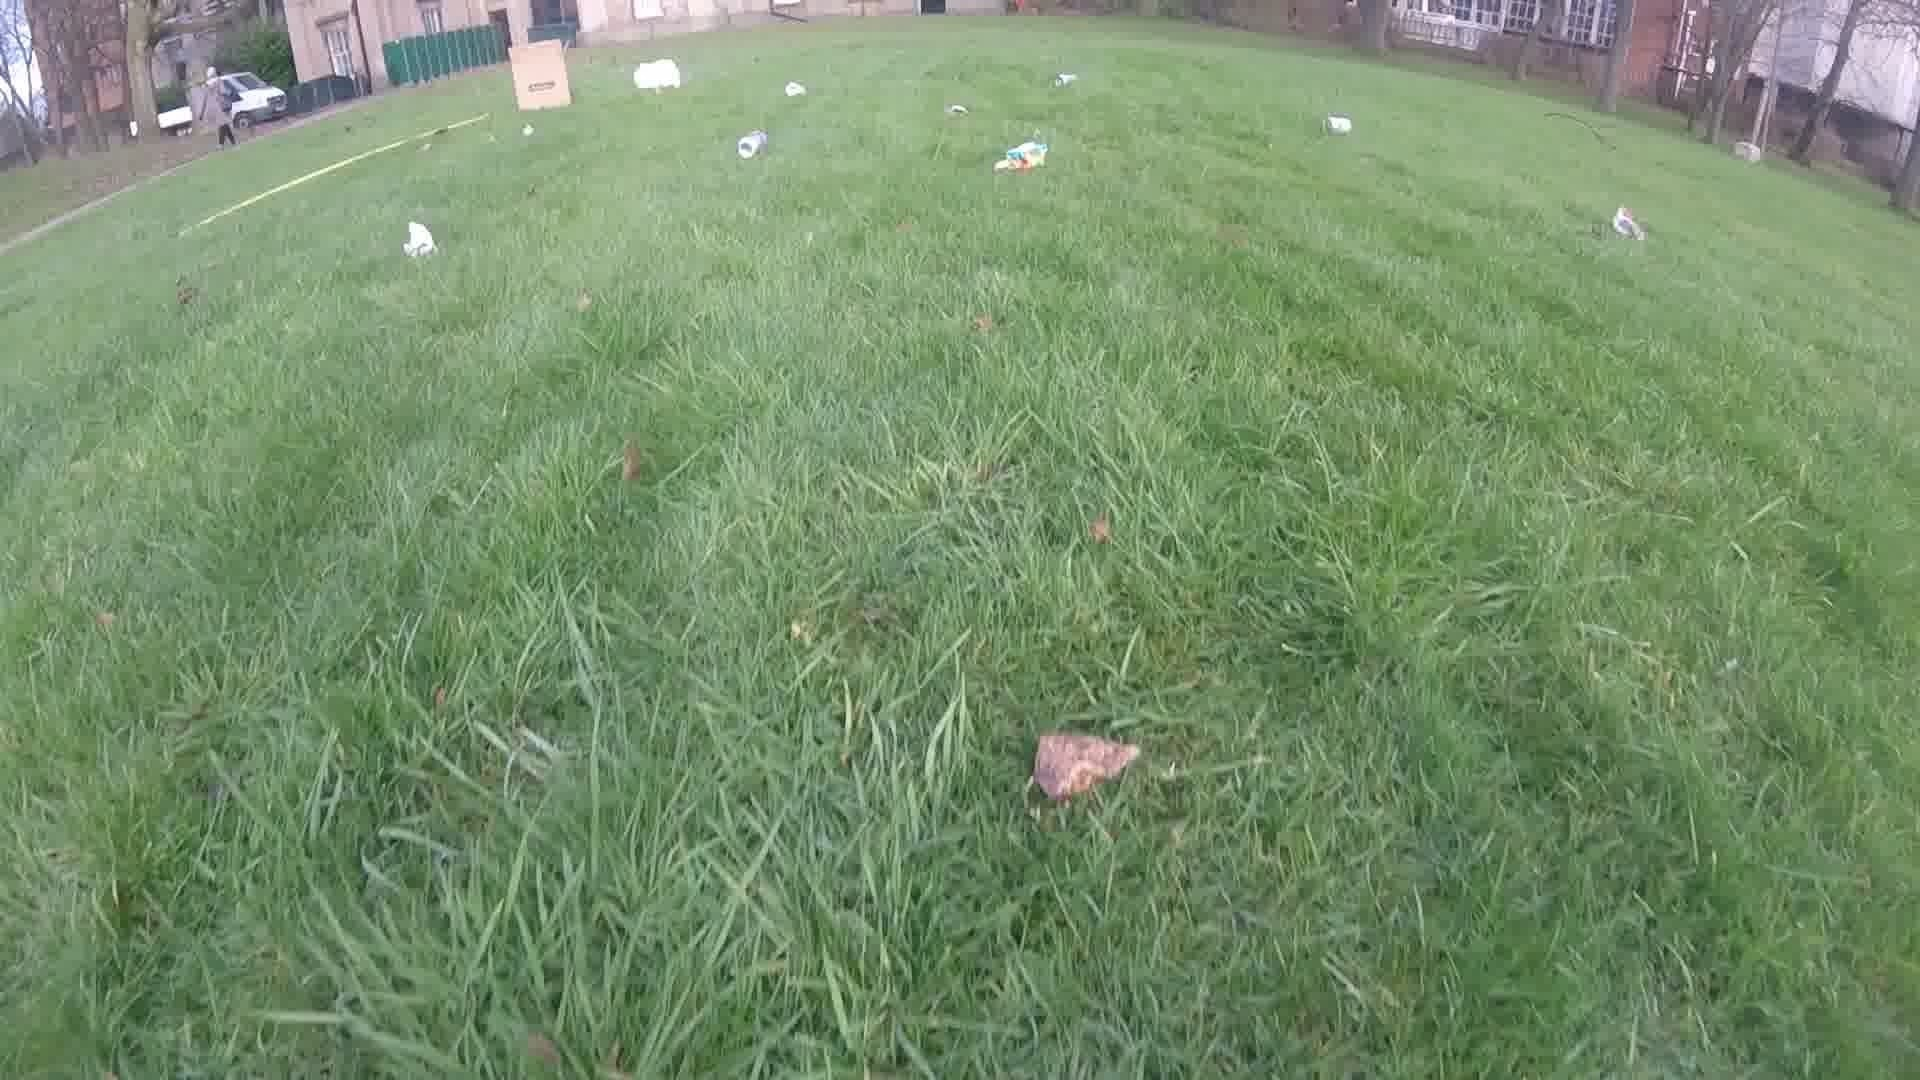litter: (506, 40, 574, 109), (992, 138, 1047, 167), (636, 59, 679, 88), (402, 222, 433, 255), (736, 131, 770, 157), (1610, 206, 1639, 236), (1323, 115, 1353, 135), (782, 82, 804, 99), (1052, 73, 1079, 84), (943, 104, 967, 117), (521, 123, 531, 138)
